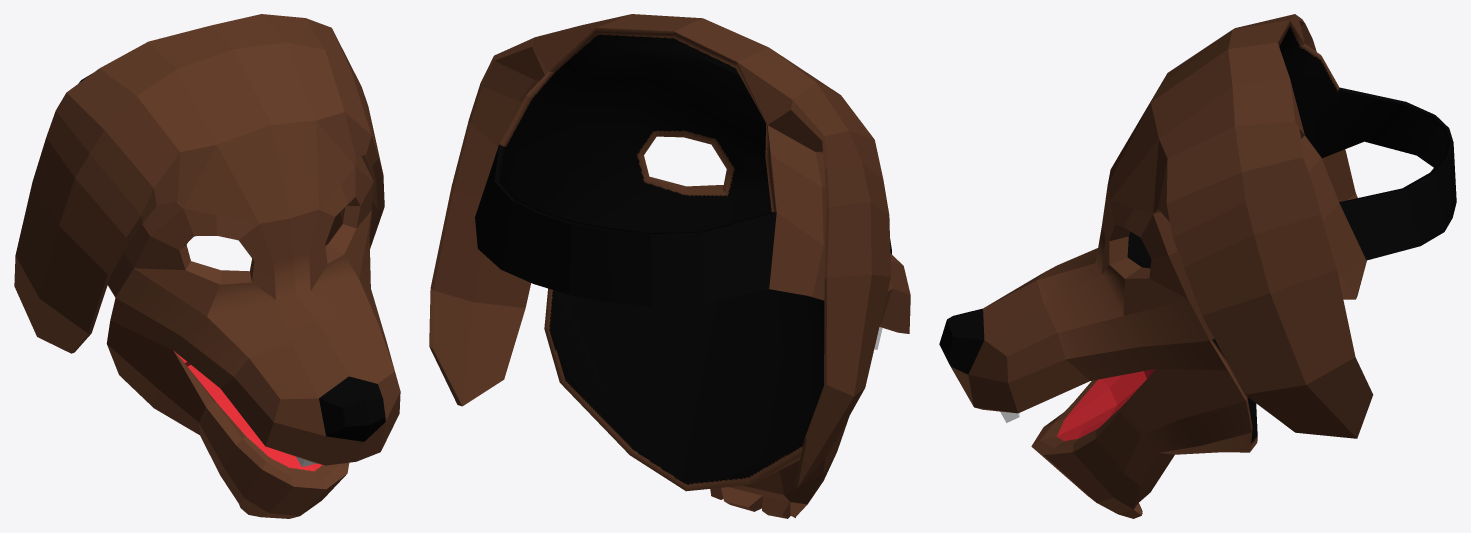
The model's file is DogMask.fbx.
The picture shows the model from 3 angles, left to right: view 1: azimuth 30°, elevation 25°; view 2: azimuth 150°, elevation 25°; view 3: azimuth 270°, elevation 25°; orthographic projection. The views are drawn at different scales.
Visible parts, largest first — view 1: Dog Export; view 2: Dog Export; view 3: Dog Export.
Boxes of the visible parts, <box> form: Dog Export: <box>14,14,400,518</box>; Dog Export: <box>429,14,910,518</box>; Dog Export: <box>939,14,1456,518</box>.
Bounding box in the file's own units: 31.27 × 41.19 × 41.4.
Materials: 1 (1 with a texture image).
